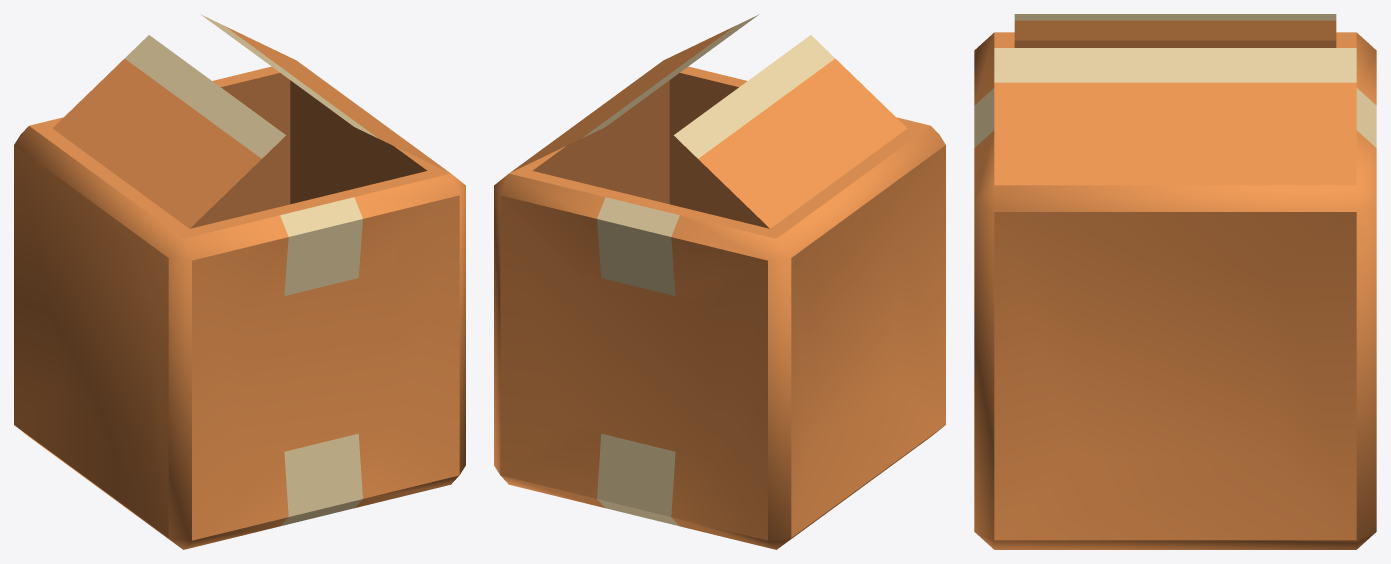
Rendered from Box Open.glb.
The picture shows the model from 3 angles, left to right: view 1: azimuth 30°, elevation 25°; view 2: azimuth 150°, elevation 25°; view 3: azimuth 270°, elevation 25°; orthographic projection. The views are drawn at different scales.
Visible parts, largest first — view 1: boxOpen; view 2: boxOpen; view 3: boxOpen.
Boxes of the visible parts, x1,y1,x2,y2 form: boxOpen: (14,14,465,549); boxOpen: (494,14,945,549); boxOpen: (974,14,1376,549).
Bounding box in the file's own units: 0.25 × 0.3063 × 0.25.
